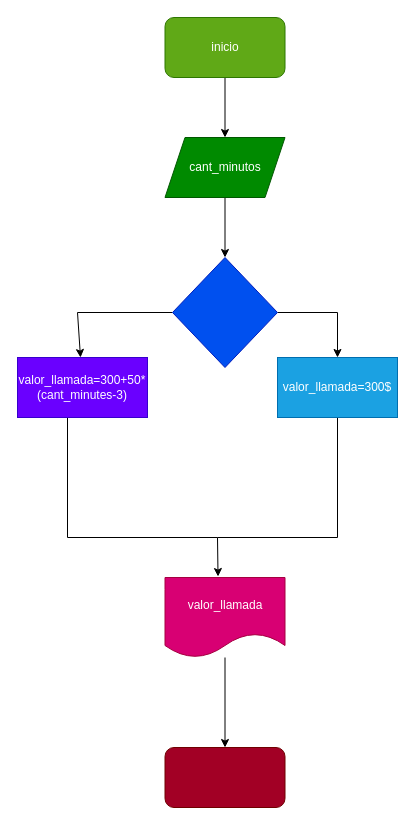
Some shapes in this 415 by 825 pixel diagram are drawn without their labels. Each missing label, with the centre of its shape:
cant_minutes <=3: the point at 225,312
fin: the point at 224,777
